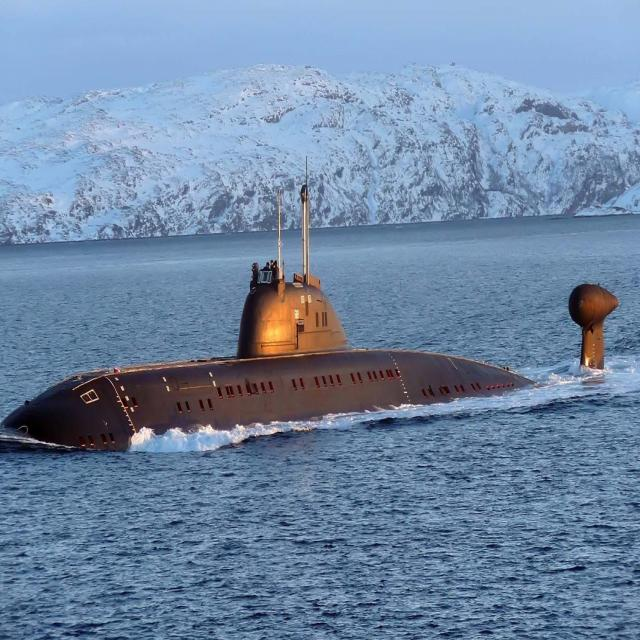submarine: (1, 148, 625, 468)
